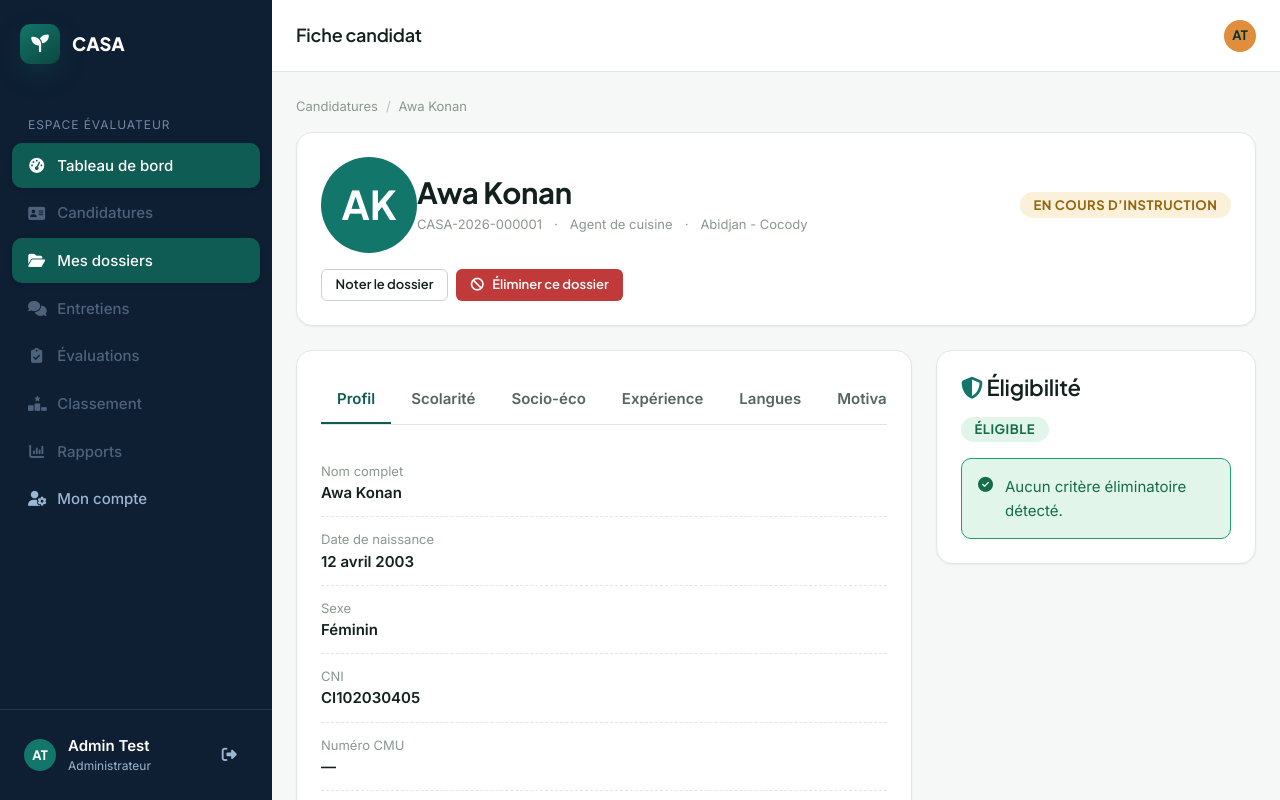
Test: FicheCandidat — élimination manuelle (Lot 8d-3, administrateur uniquement) › admin : motif obligatoire (bouton bloqué en dessous de 3 caractères), succès -> POST puis rechargement de la fiche
Expected: the heading "Awa Konan" is shown, [417,174,572,211]
Click the button "Éliminer ce dossier". click: [540, 285]
box: [456,269,623,301]
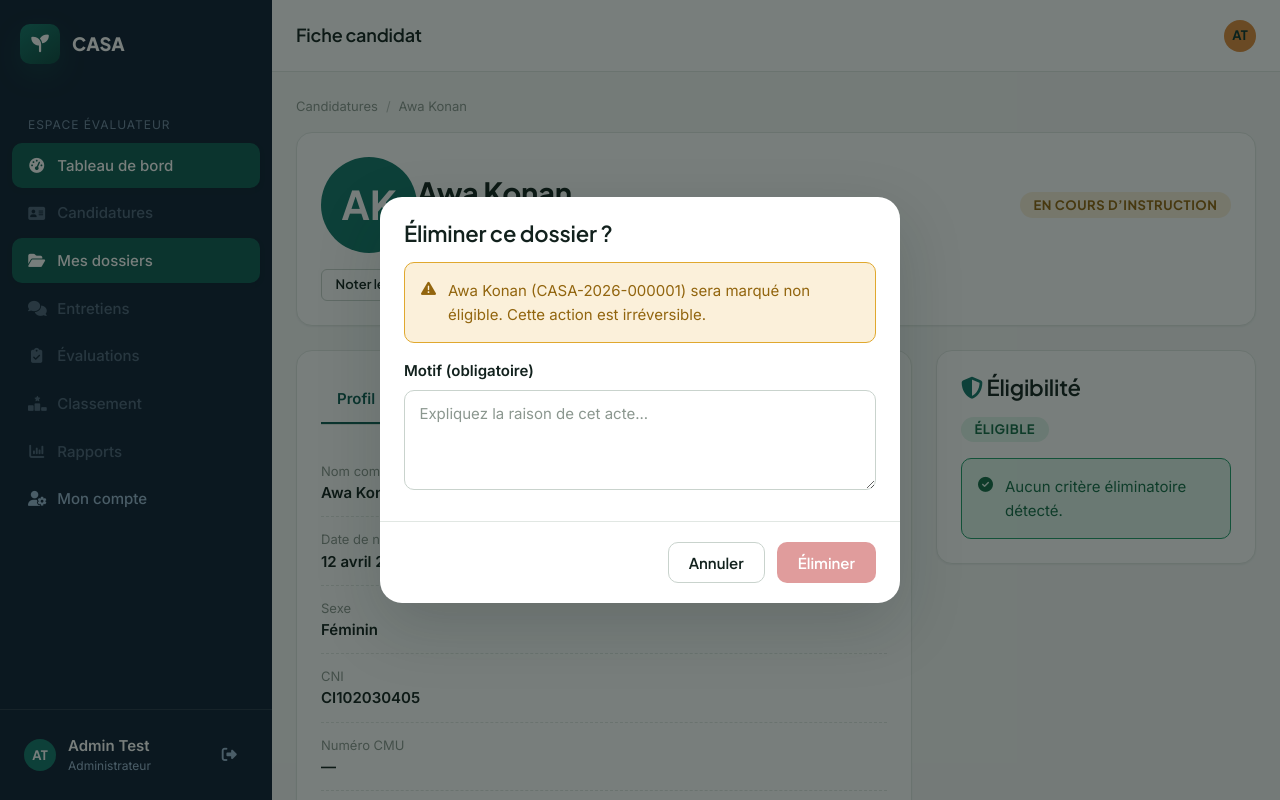
Expected: the button "Éliminer" is disabled, [777,542,876,583]
Type "ok" into the text box labelled "Motif (obligatoire)". click: [640, 440]
box: [404,390,876,490]
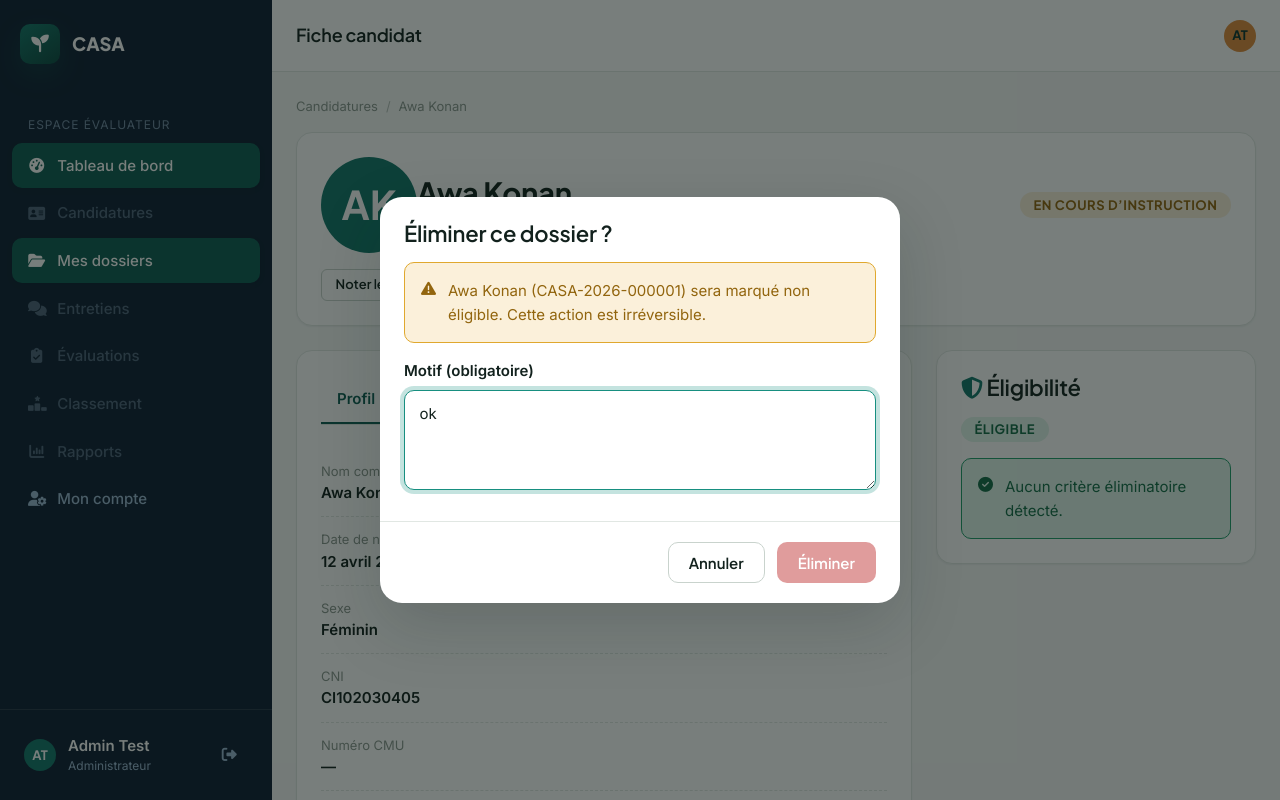
Expected: the button "Éliminer" is disabled, [777,542,876,583]
Type " pièce falsifiée" into the text box labelled "Motif (obligatoire)". click: [640, 440]
box: [404,390,876,490]
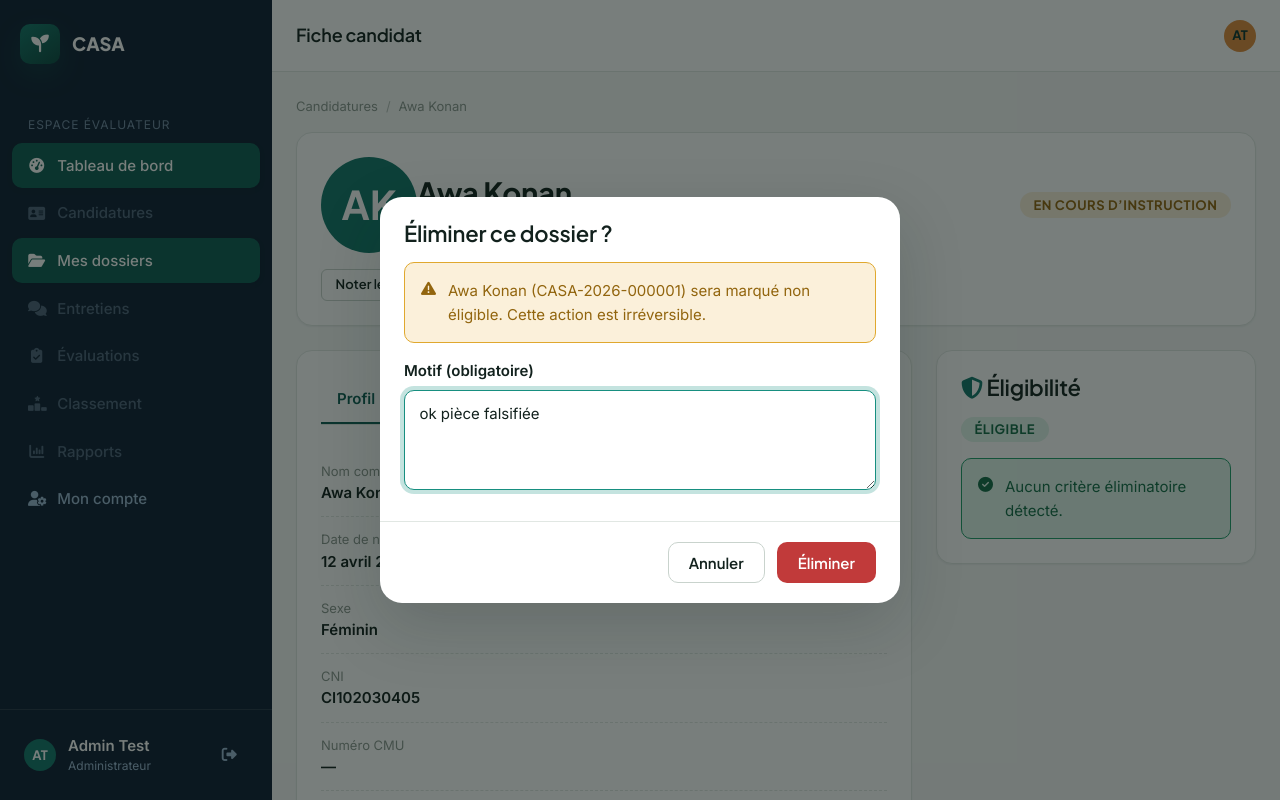
Expected: the button "Éliminer" is enabled
Click the button "Éliminer". click: [826, 562]
box: [777,542,876,583]
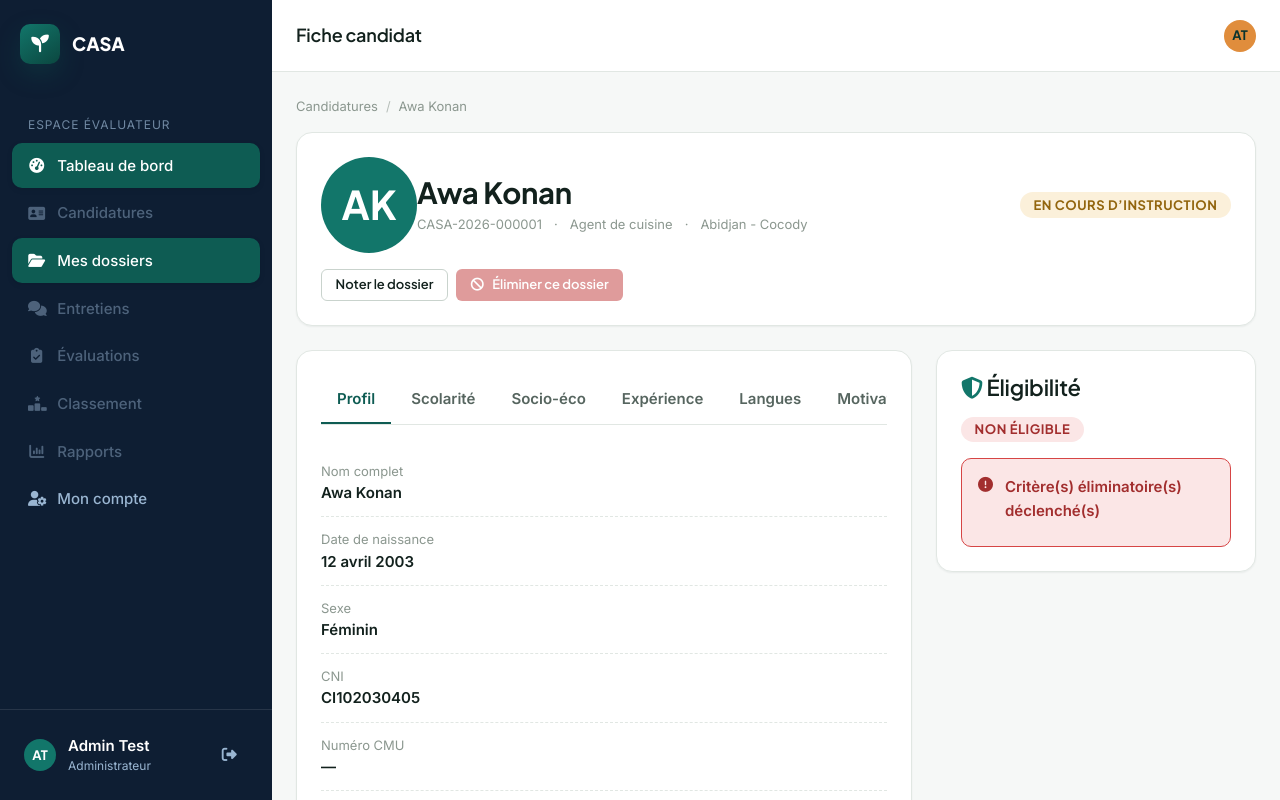
Expected: the text "Non éligible" is shown, [961,417,1084,442]
Expected: the dialog is gone
